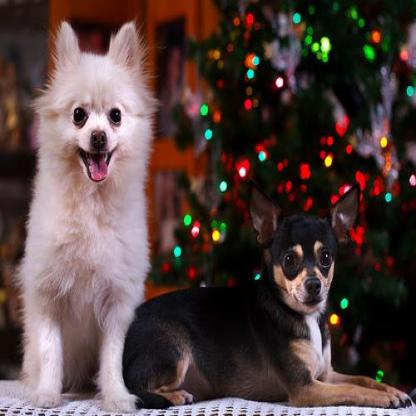Pomeranian: (16, 18, 155, 412)
